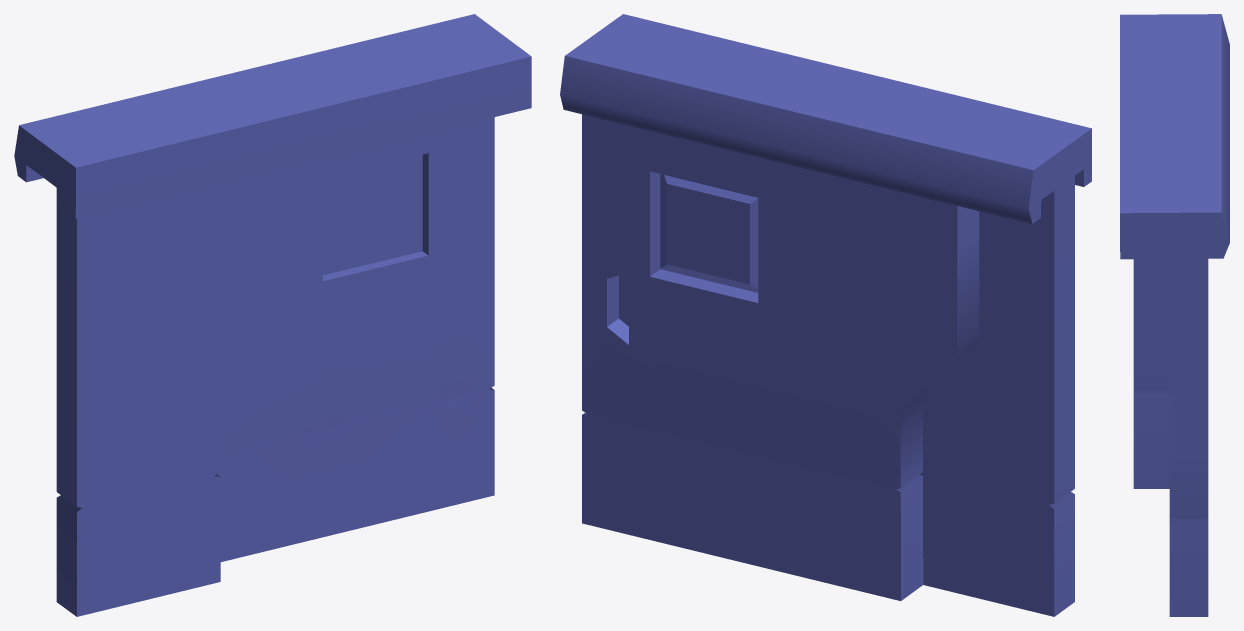
File: Door 2.0.fbx
The picture shows the model from 3 angles, left to right: view 1: azimuth 30°, elevation 25°; view 2: azimuth 150°, elevation 25°; view 3: azimuth 270°, elevation 25°; orthographic projection. The views are drawn at different scales.
Parts seen in each view (by area): view 1: Metal_Door_2, Metal_Door_1, Slider; view 2: Metal_Door_2, Slider, Metal_Door_1; view 3: Slider, Metal_Door_2, Metal_Door_1.
Part boxes in pixels (box(x1,y1,x2,y2)): Metal_Door_2: box(217, 117, 494, 561); Metal_Door_1: box(56, 184, 220, 616); Slider: box(14, 14, 531, 218); Metal_Door_2: box(582, 114, 979, 600); Slider: box(560, 14, 1091, 223); Metal_Door_1: box(919, 176, 1074, 616); Slider: box(1120, 14, 1229, 259); Metal_Door_2: box(1169, 243, 1208, 616); Metal_Door_1: box(1133, 243, 1169, 488).
Size of the model in its own units: 3.12 by 3 by 0.7301.
